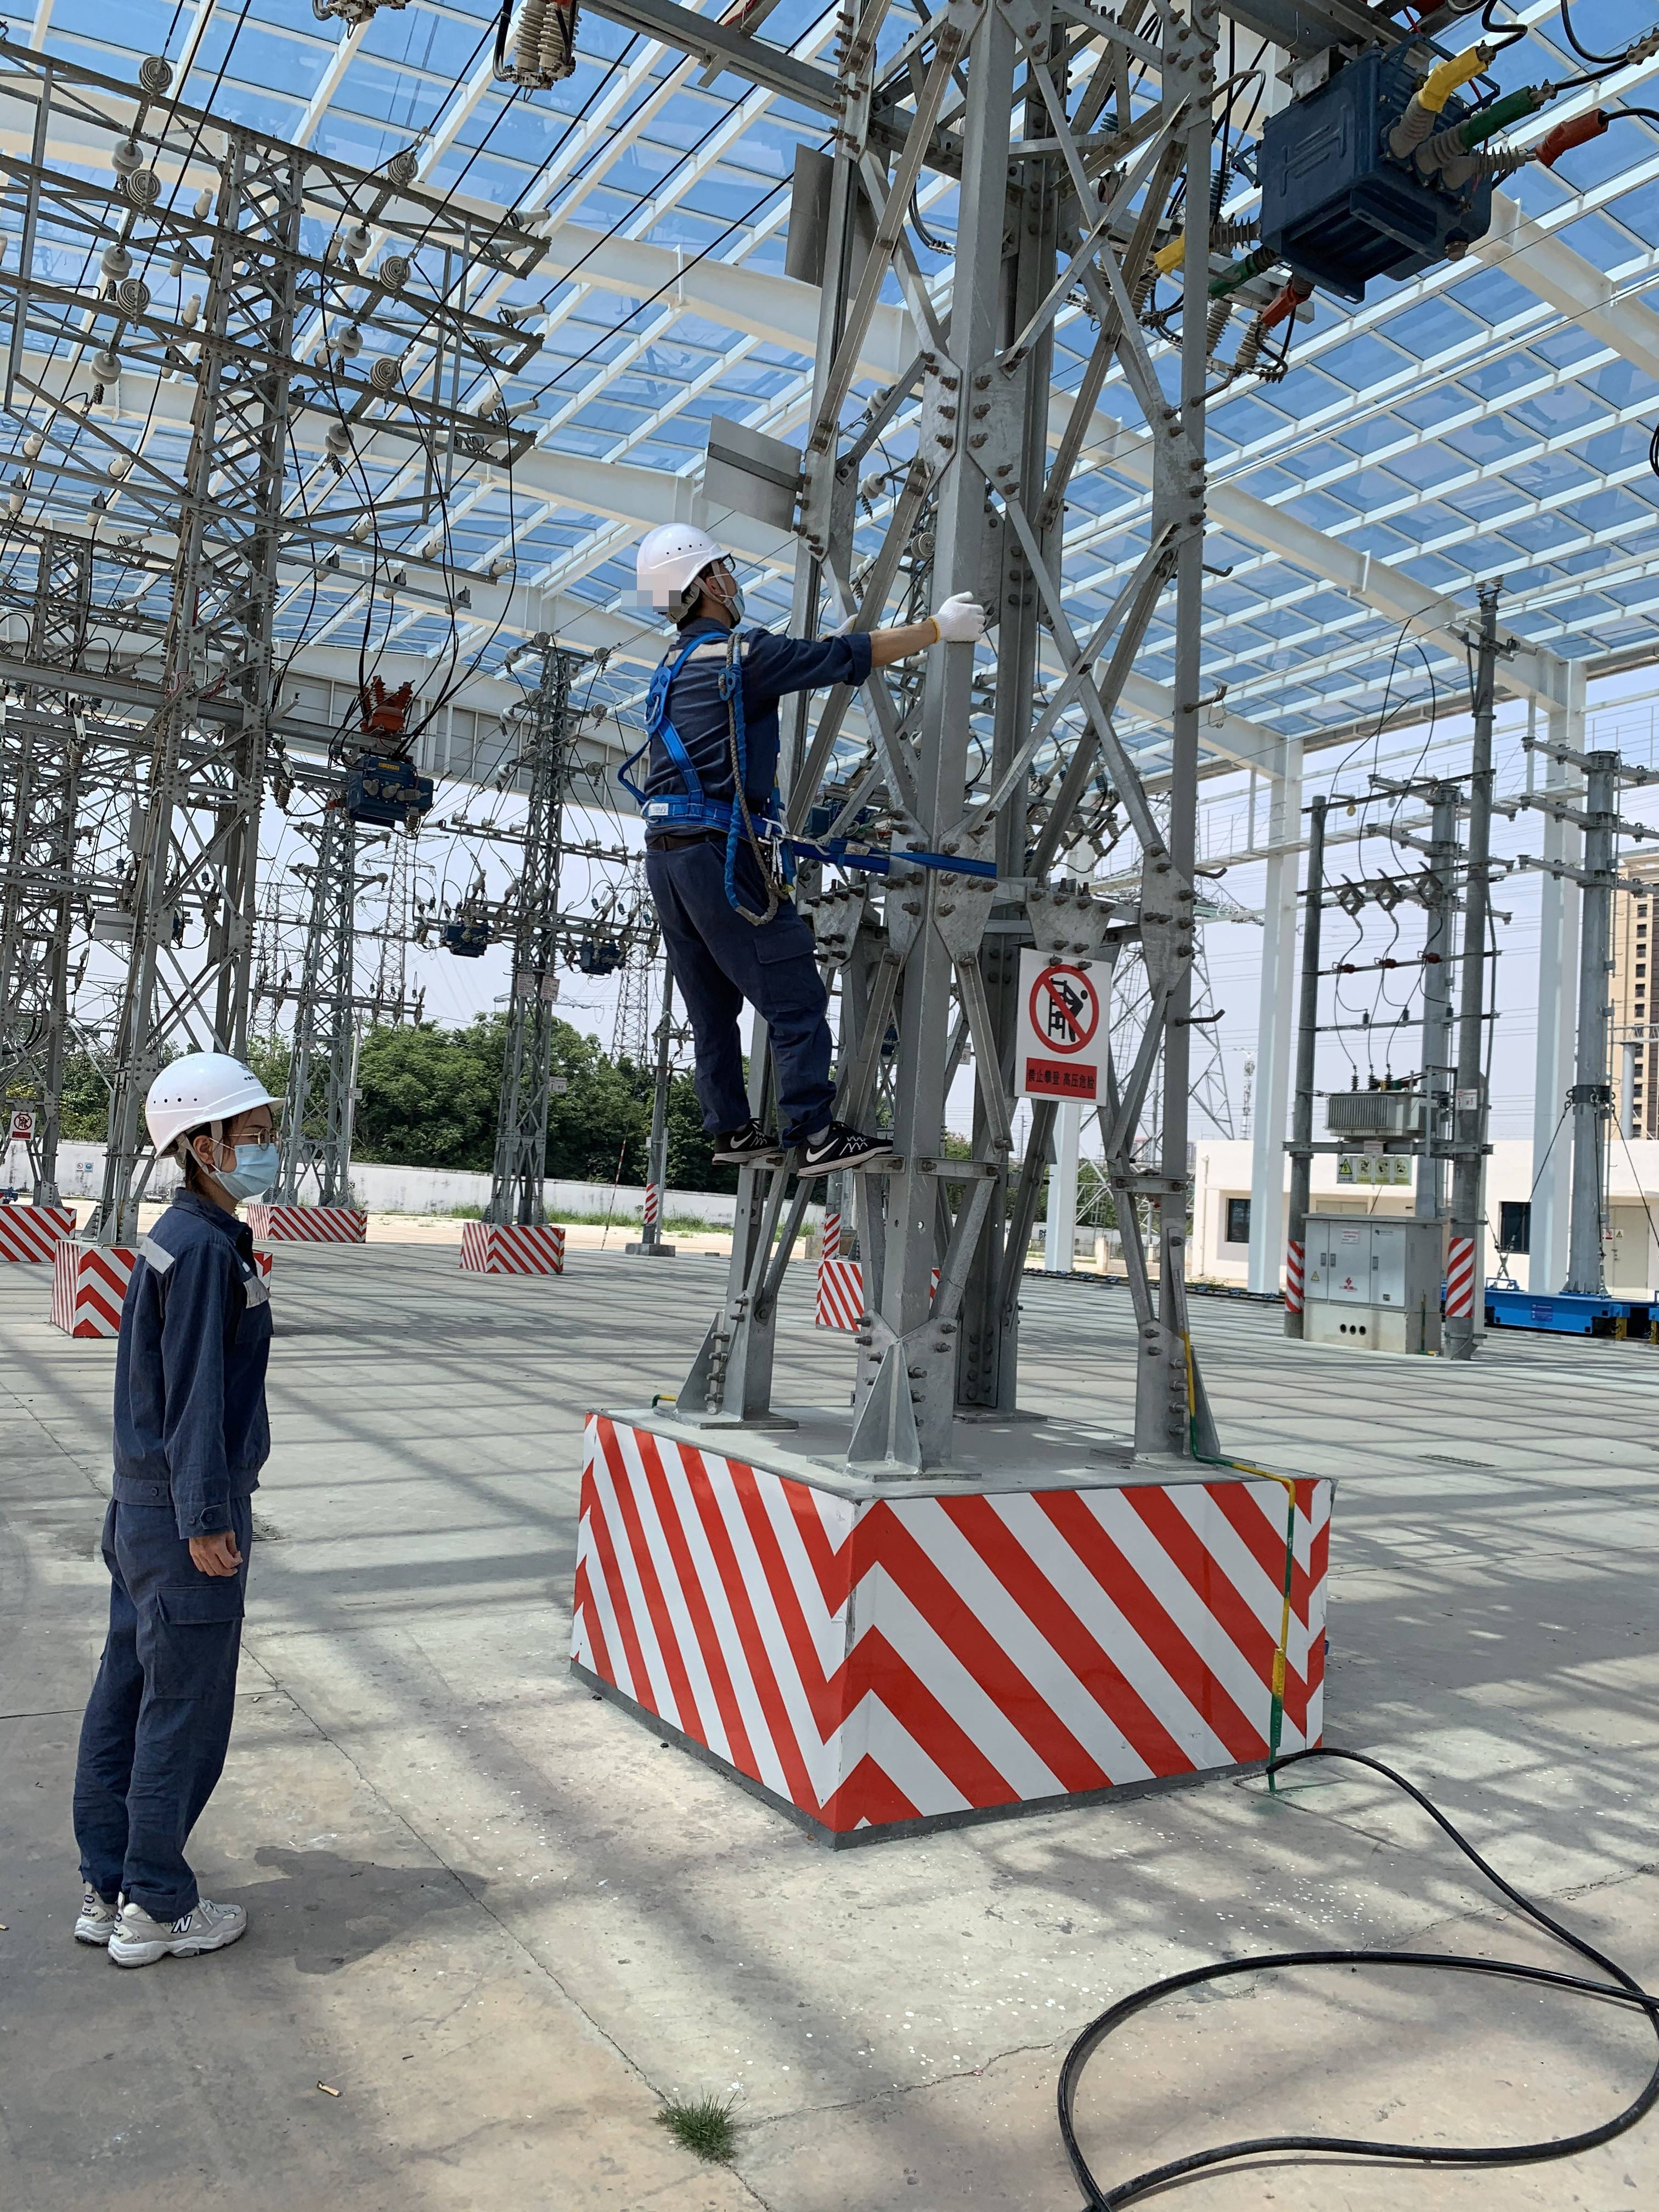downsuit: (75, 1561, 263, 1918), (645, 846, 849, 1132)
upsuit: (110, 1183, 277, 1519), (627, 637, 880, 799)
wrongtop: (859, 604, 964, 669)
